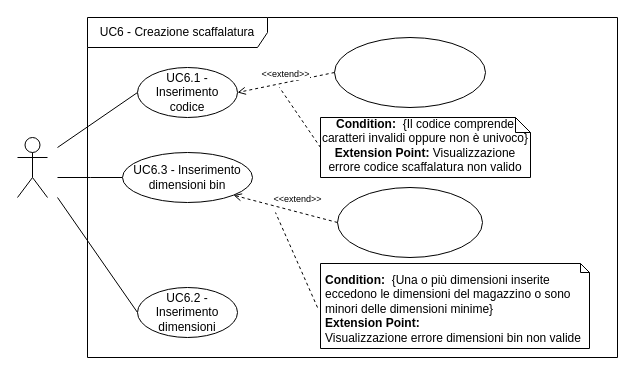
Image size: 635x375. Some labels were removed from this diagram. Each missing label, with the centre of its shape:
"UC22 - Visualizzazione errore codice scaffalatura non valido" goes at (x=410, y=72).
"UC27 - Visualizzazione errore dimensioni bin non valide" goes at (x=409, y=222).
"User" goes at (x=32, y=167).
